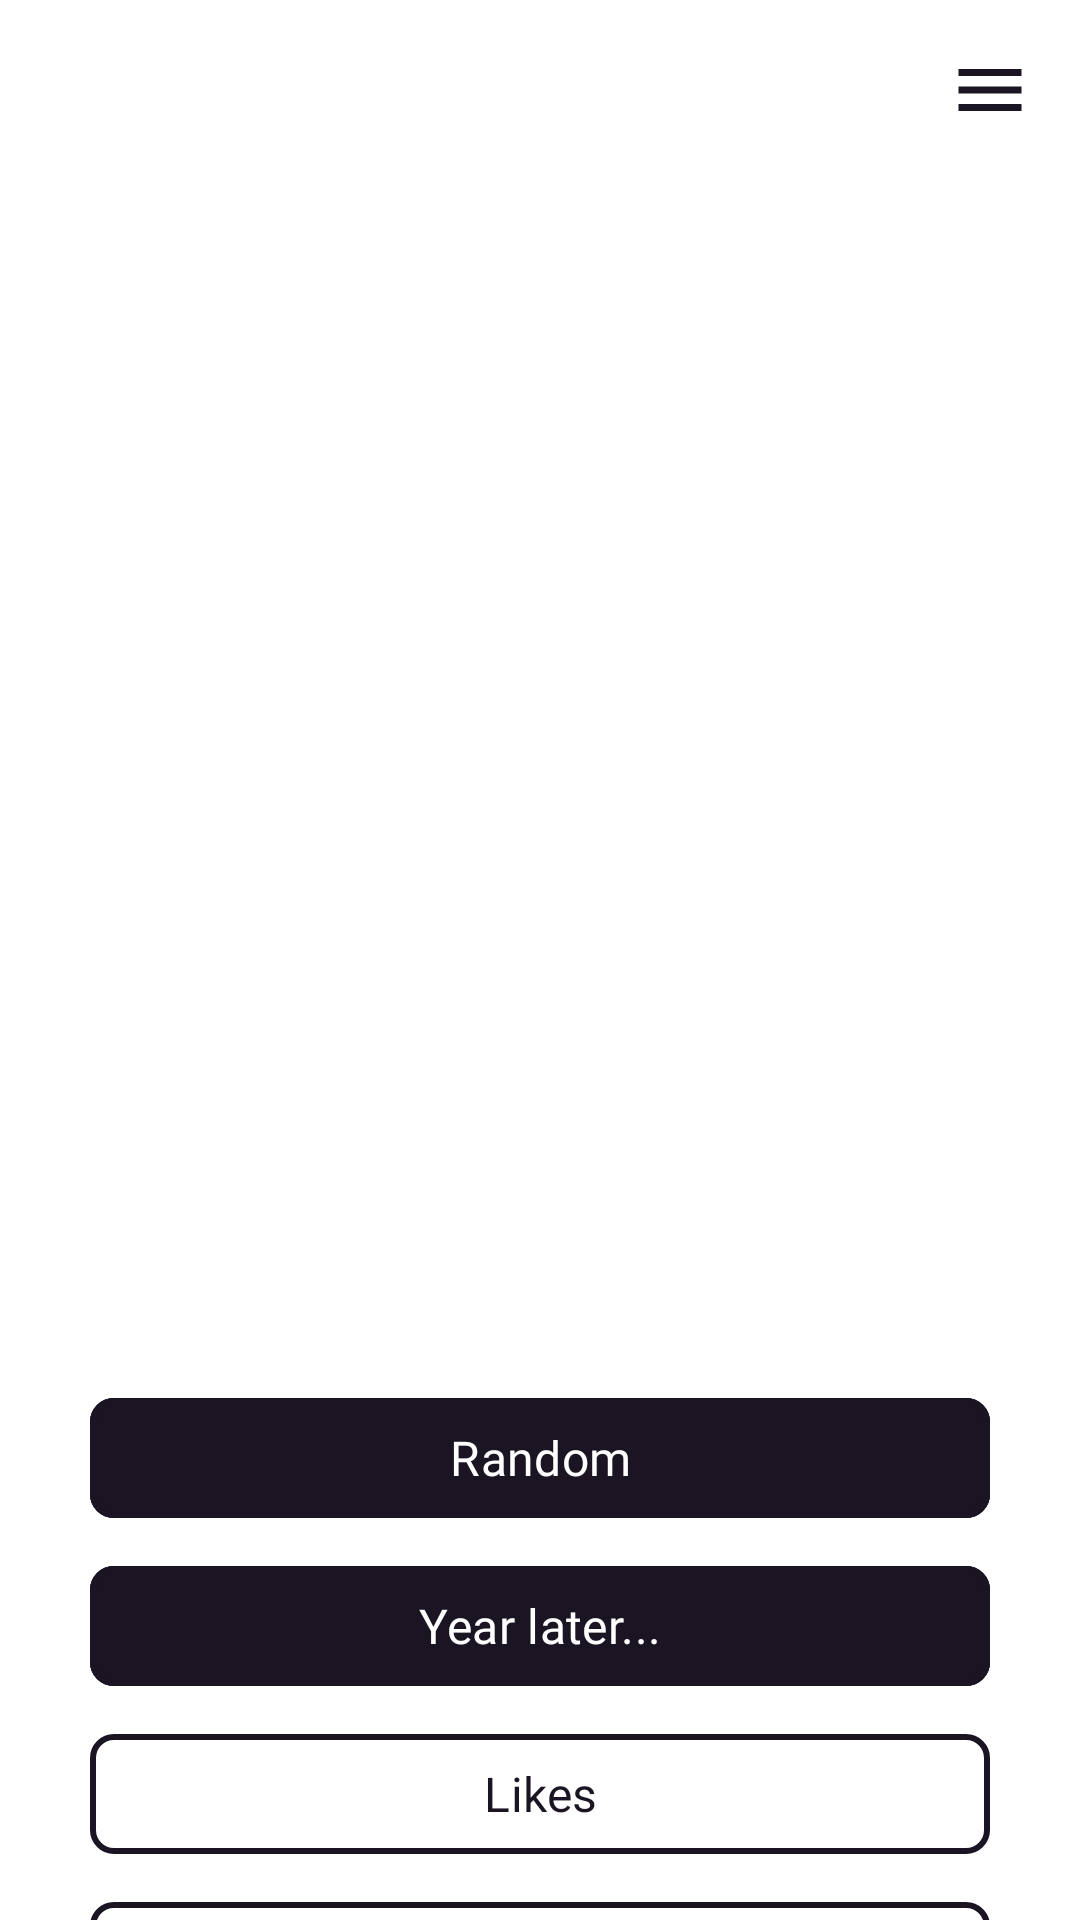

Named icons in this screenshot (1080px x 1920px) and their bounding boxes, (x1, y1, x2, y2):
Menu: (958, 69, 1022, 111)
